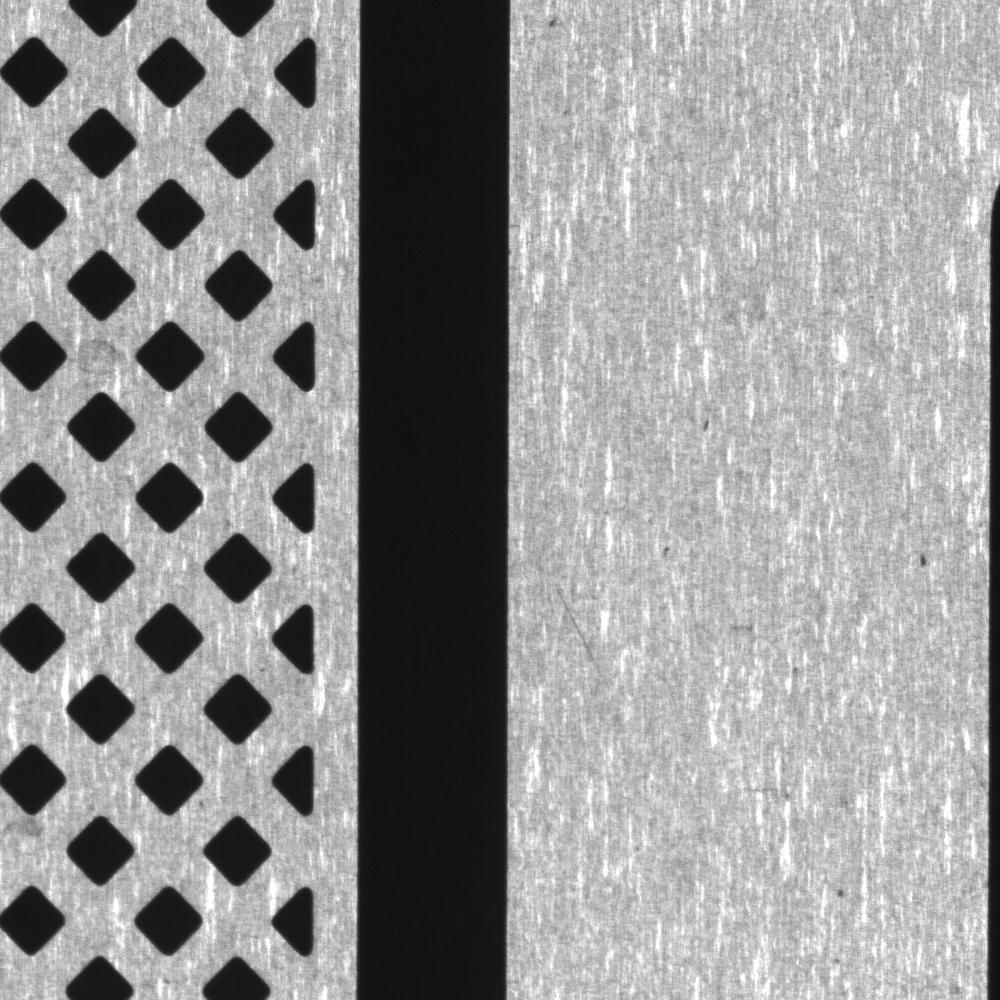Discolor: (65, 333, 137, 388)
Etching: (650, 530, 681, 563), (905, 545, 937, 575), (695, 407, 718, 445), (537, 9, 567, 33)
Pinhole: (827, 871, 856, 910)
Scar: (548, 570, 611, 687)
